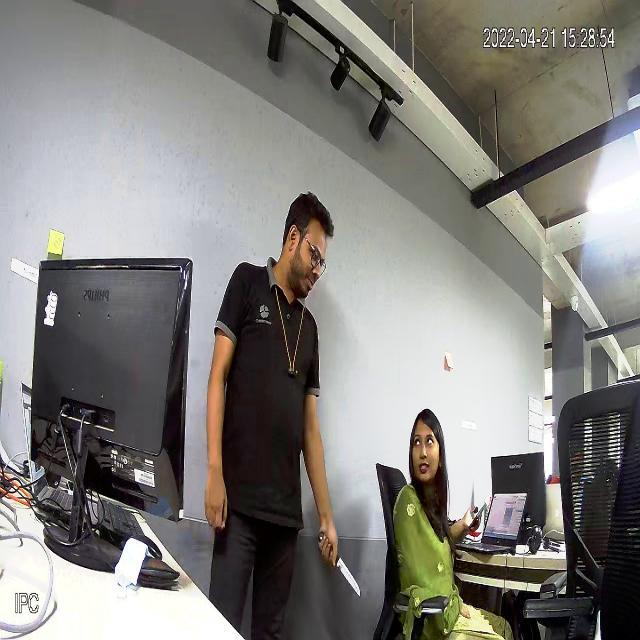Knife: (313, 521, 370, 600)
